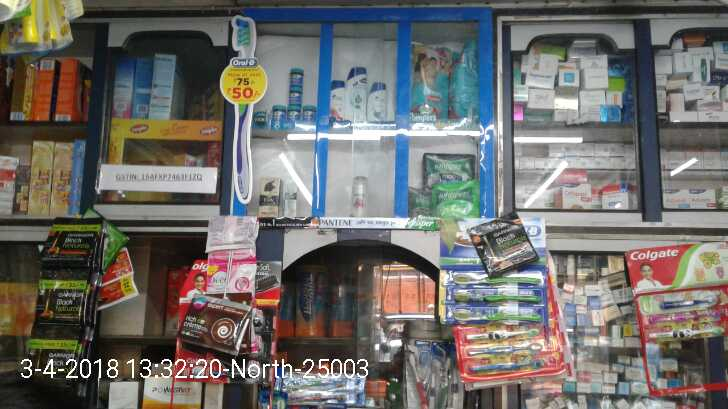oralcare: (440, 277, 548, 325), (460, 338, 560, 381)
vicks: (271, 61, 315, 131)
